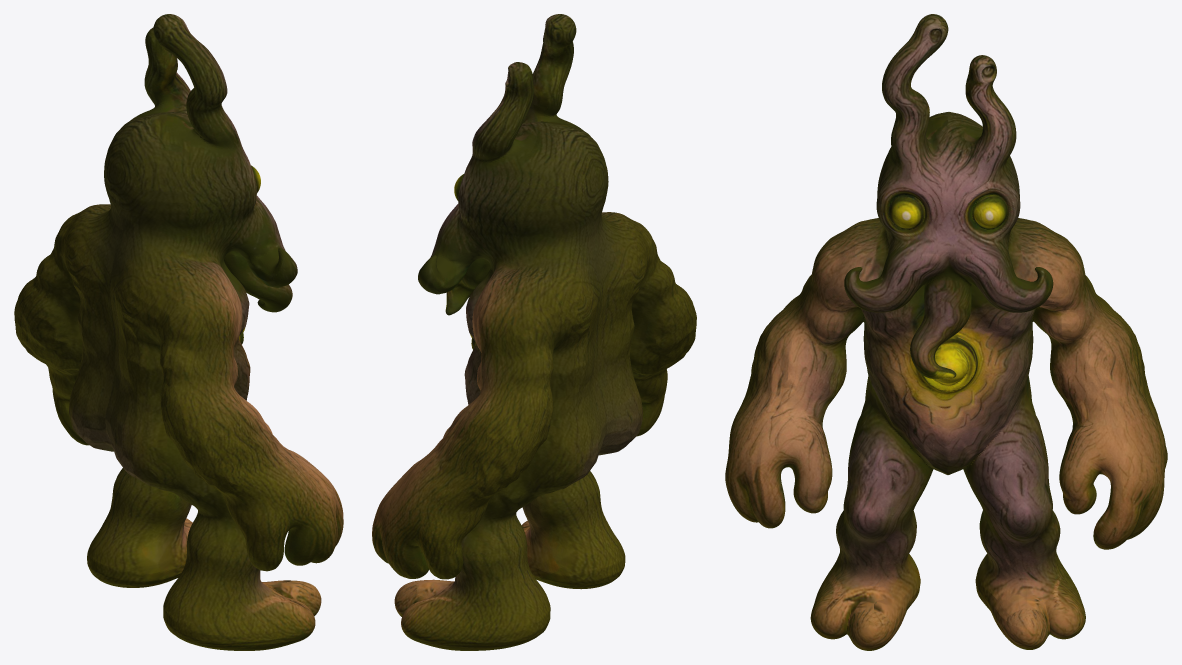
The model's file is Apesun.glb.
3 renders of one model, left to right at view 1: azimuth 30°, elevation 25°; view 2: azimuth 150°, elevation 25°; view 3: azimuth 270°, elevation 25°, orthographic. The views are drawn at different scales.
Visible parts, largest first — view 1: tripo_node_5ee90e84-c597-4c2d-bfa0-4dcd573bfebd; view 2: tripo_node_5ee90e84-c597-4c2d-bfa0-4dcd573bfebd; view 3: tripo_node_5ee90e84-c597-4c2d-bfa0-4dcd573bfebd.
Part boxes in pixels (x1,y1,x2,y2): tripo_node_5ee90e84-c597-4c2d-bfa0-4dcd573bfebd: [14, 14, 343, 650]; tripo_node_5ee90e84-c597-4c2d-bfa0-4dcd573bfebd: [372, 14, 696, 650]; tripo_node_5ee90e84-c597-4c2d-bfa0-4dcd573bfebd: [725, 14, 1167, 650].
Size of the model in its own units: 0.317 by 1 by 0.6793.
Materials: 1 (1 with a texture image).
